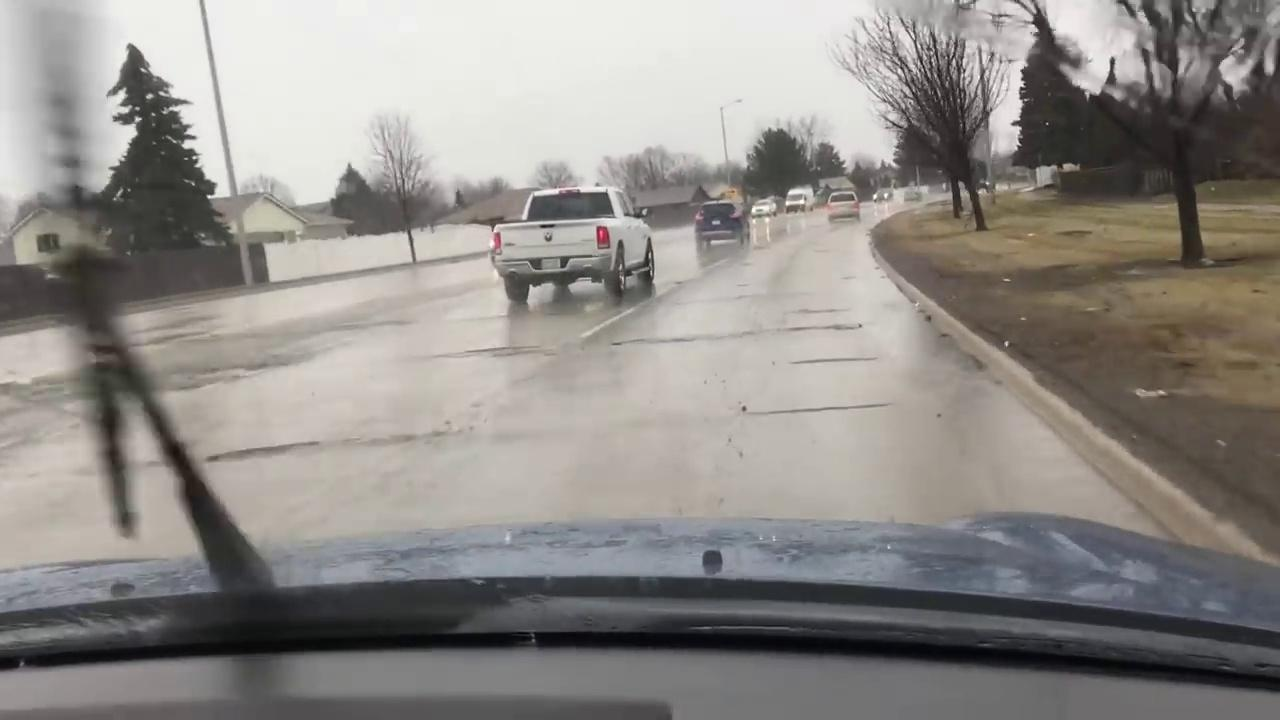pothole: (205, 430, 462, 462), (437, 347, 541, 355)
